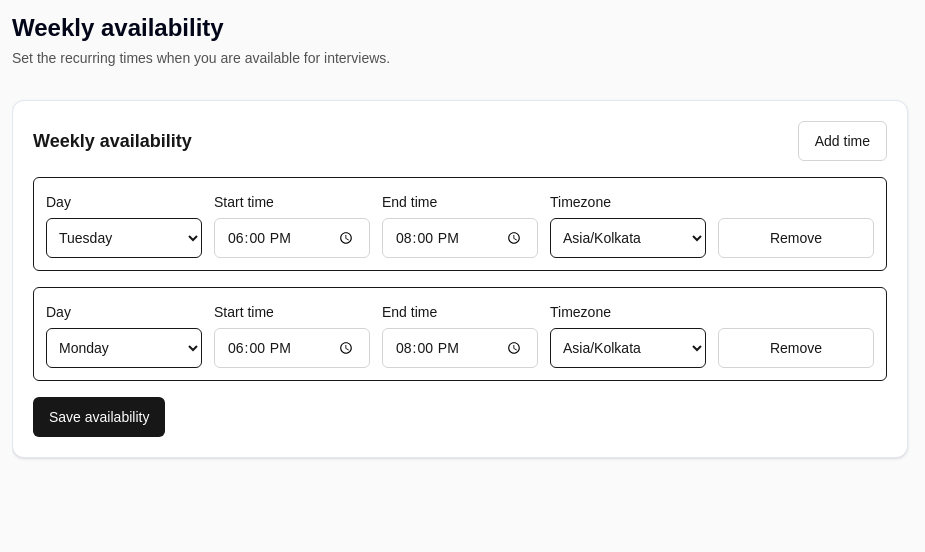
Test case: InterviewerWorkspace › resaves loaded rows without sending response IDs
Check: the time field named "Start time 1" is shown, box [214,218,370,258]
Click the button "Save availability" at (99, 417), box [33,397,165,437]
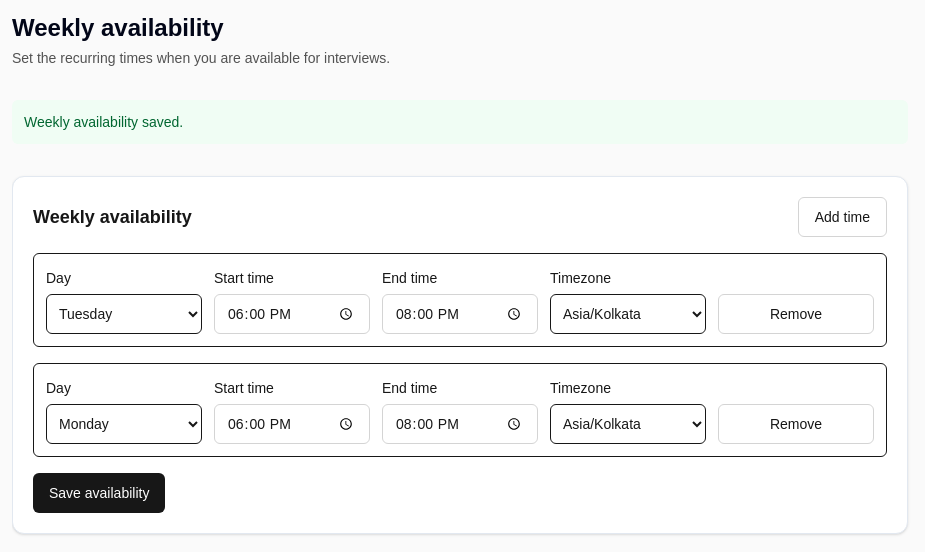
Check: the text "Weekly availability saved." is shown, box [12,100,908,144]
